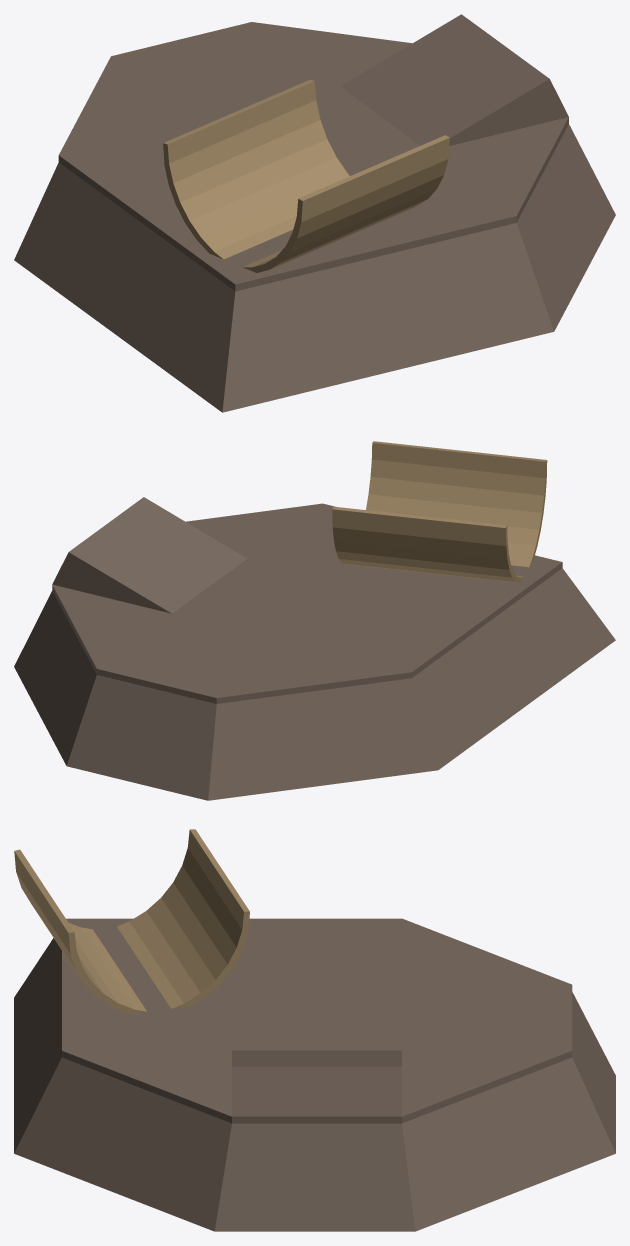
File: halfPipe.fbx
3 views of the same model, one above another, from view 1: azimuth 30°, elevation 25°; view 2: azimuth 150°, elevation 25°; view 3: azimuth 270°, elevation 25° (orthographic). The views are drawn at different scales.
Parts seen in each view (by area): view 1: Cube, Cylinder, Cylinder_001; view 2: Cube, Cylinder_001, Cylinder; view 3: Cube, Cylinder, Cylinder_001.
Part boxes in pixels (x1=…): Cube: x1=14, y1=14, x2=615, y2=412; Cylinder: x1=163, y1=79, x2=349, y2=259; Cylinder_001: x1=242, y1=135, x2=449, y2=272; Cube: x1=14, y1=497, x2=615, y2=800; Cylinder_001: x1=366, y1=441, x2=547, y2=567; Cylinder: x1=332, y1=506, x2=523, y2=583; Cube: x1=14, y1=918, x2=615, y2=1231; Cylinder: x1=117, y1=829, x2=249, y2=1008; Cylinder_001: x1=14, y1=849, x2=146, y2=1013.
Size of the model in its own units: 5.47 by 2.02 by 5.95.
